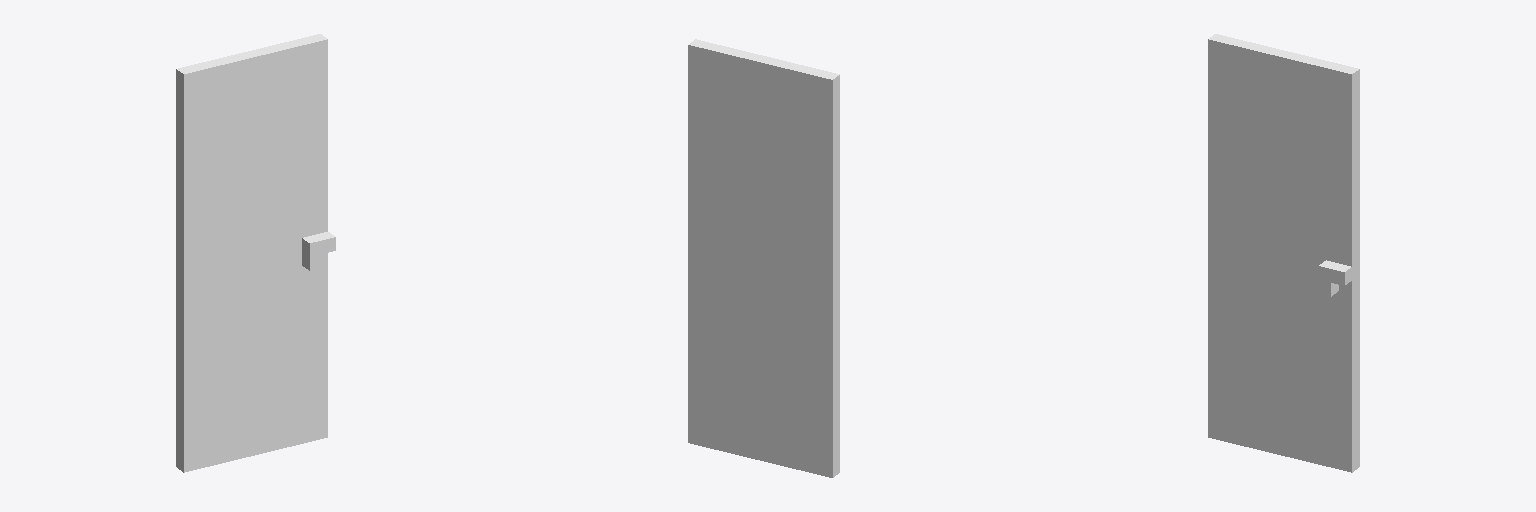
File: Decor-56.obj
3 renders of one model, left to right at view 1: azimuth 30°, elevation 25°; view 2: azimuth 150°, elevation 25°; view 3: azimuth 330°, elevation 25°, orthographic.
Parts seen in each view (by area): view 1: object 1; view 2: object 1; view 3: object 1.
Boxes of the visible parts, <box> form: object 1: <box>176,34,335,472</box>; object 1: <box>688,39,839,477</box>; object 1: <box>1208,34,1359,472</box>.
Size of the model in its own units: 1.1 by 2.9 by 0.2.